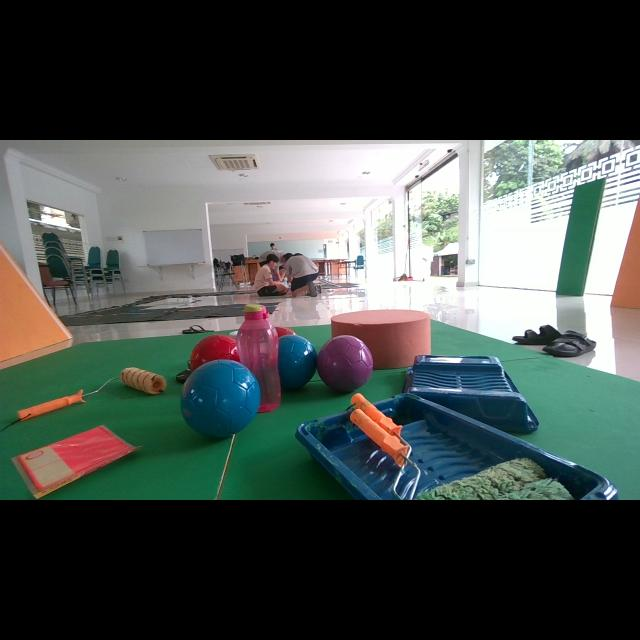B: (181, 360, 261, 438), (278, 335, 318, 389)
P: (316, 335, 372, 392)
R: (189, 334, 239, 371), (275, 326, 296, 337)
